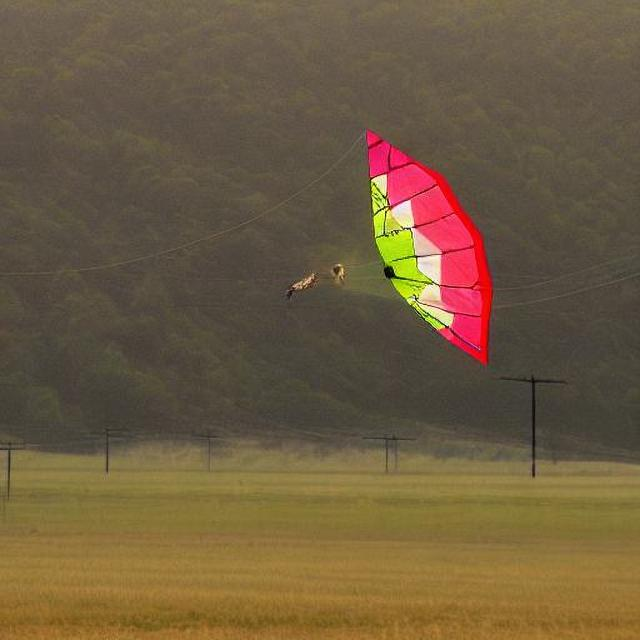floating object: (364, 123, 498, 376), (278, 267, 323, 301), (326, 260, 354, 288)
